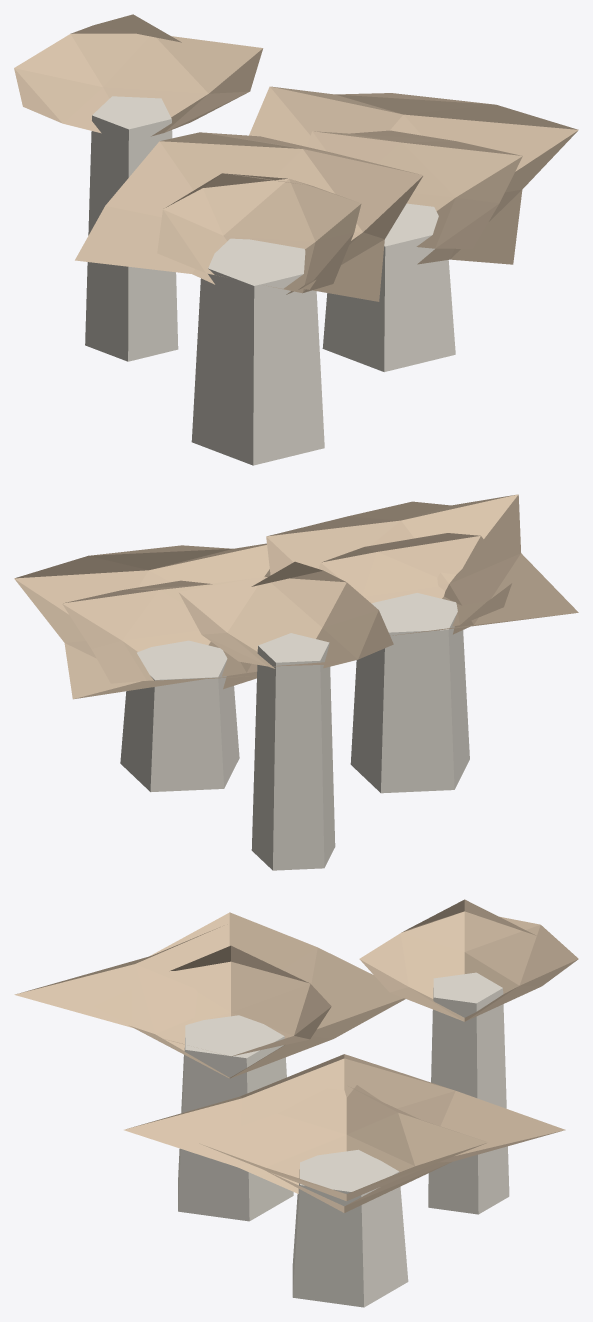
The model's file is mushroom_v35.glb.
3 renders of one model, top to bottom at view 1: azimuth 30°, elevation 25°; view 2: azimuth 150°, elevation 25°; view 3: azimuth 270°, elevation 25°, orthographic. The views are drawn at different scales.
Parts seen in each view (by area): view 1: lod0; view 2: lod0; view 3: lod0.
Part boxes in pixels (x1,y1,x2,y2): lod0: (14, 14, 578, 465); lod0: (14, 494, 578, 870); lod0: (14, 899, 578, 1307).
Size of what is drawn, in the model's own units: 0.88 by 0.4844 by 0.8346.
